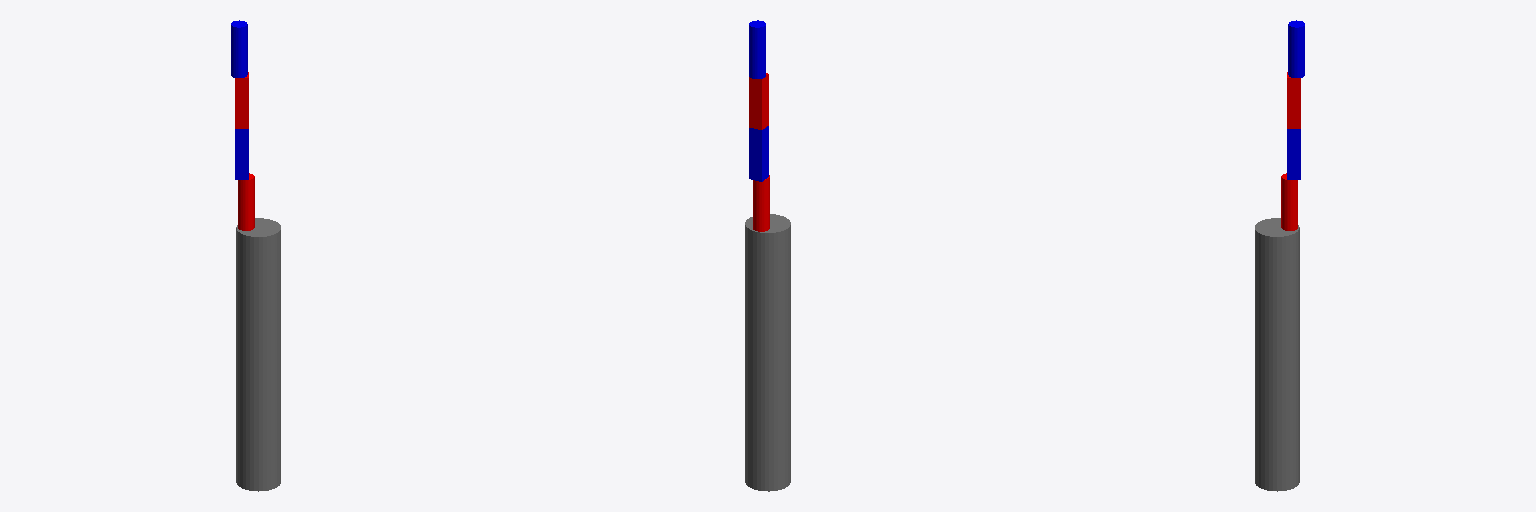
robot.urdf — generated_robot:
<?xml version="1.0"?>
<robot name="generated_robot">
  <mujoco >
    <compiler discardvisual="false"/>
  </mujoco>
  <link name="world"/>
  <joint name="world_to_body" type="fixed">
    <parent link="world"/>
    <child link="body"/>
    <origin xyz="0 0 1.0" rpy="0 0 0"/>
  </joint>
  <link name="body">
    <visual >
      <origin xyz="0 0 -0.5" rpy="0 0 0"/>
      <geometry >
        <cylinder radius="0.0800" length="1.0"/>
      </geometry>
      <material name="grey">
        <color rgba="0.5 0.5 0.5 1.0"/>
      </material>
    </visual>
    <inertial >
      <mass value="10.0"/>
      <inertia ixx="0.01" ixy="0" ixz="0" iyy="0.01" iyz="0" izz="0.01"/>
    </inertial>
  </link>
  <joint name="joint_0" type="revolute">
    <parent link="body"/>
    <child link="link_0"/>
    <origin xyz="0.001 0.03 0.0" rpy="0.0000 0.0000 0.0000"/>
    <axis xyz="1 0 0"/>
    <limit lower="-3.1416" upper="3.1416" effort="10" velocity="1"/>
  </joint>
  <link name="link_0">
    <visual >
      <origin xyz="0.0000 0.0150 0.1000" rpy="0.0000 0.0000 0.0000"/>
      <geometry >
        <cylinder radius="0.0300" length="0.2000"/>
      </geometry>
      <material name="mat_0">
        <color rgba="1.0 0.0 0.0 1.0"/>
      </material>
    </visual>
    <inertial >
      <mass value="1.0"/>
      <inertia ixx="0.01" ixy="0" ixz="0" iyy="0.01" iyz="0" izz="0.01"/>
    </inertial>
  </link>
  <joint name="joint_1" type="revolute">
    <parent link="link_0"/>
    <child link="link_1"/>
    <origin xyz="0.0 0.03 0.2" rpy="0.0000 0.0000 0.0000"/>
    <axis xyz="0 0 1"/>
    <limit lower="-3.1416" upper="3.1416" effort="10" velocity="1"/>
  </joint>
  <link name="link_1">
    <visual >
      <origin xyz="0.0000 0.0000 0.1000" rpy="0 0 0"/>
      <geometry >
        <box size="0.0500 0.0500 0.2000"/>
      </geometry>
      <material name="mat_1">
        <color rgba="0.0 0.0 1.0 1.0"/>
      </material>
    </visual>
    <inertial >
      <mass value="1.0"/>
      <inertia ixx="0.01" ixy="0" ixz="0" iyy="0.01" iyz="0" izz="0.01"/>
    </inertial>
  </link>
  <joint name="joint_2" type="revolute">
    <parent link="link_1"/>
    <child link="link_2"/>
    <origin xyz="0.0 0.0 0.2" rpy="0.0000 0.0000 0.0000"/>
    <axis xyz="0 1 0"/>
    <limit lower="-3.1416" upper="3.1416" effort="10" velocity="1"/>
  </joint>
  <link name="link_2">
    <visual >
      <origin xyz="0.0000 0.0000 0.1000" rpy="0 0 0"/>
      <geometry >
        <box size="0.0500 0.0500 0.2000"/>
      </geometry>
      <material name="mat_2">
        <color rgba="1.0 0.0 0.0 1.0"/>
      </material>
    </visual>
    <inertial >
      <mass value="1.0"/>
      <inertia ixx="0.01" ixy="0" ixz="0" iyy="0.01" iyz="0" izz="0.01"/>
    </inertial>
  </link>
  <joint name="joint_3" type="revolute">
    <parent link="link_2"/>
    <child link="link_3"/>
    <origin xyz="0.0 0.0 0.2" rpy="0.0000 0.0000 0.0000"/>
    <axis xyz="0 0 1"/>
    <limit lower="-3.1416" upper="3.1416" effort="10" velocity="1"/>
  </joint>
  <link name="link_3">
    <visual >
      <origin xyz="0.0000 0.0100 0.1000" rpy="0.0000 0.0000 0.0000"/>
      <geometry >
        <cylinder radius="0.0300" length="0.2000"/>
      </geometry>
      <material name="mat_3">
        <color rgba="0.0 0.0 1.0 1.0"/>
      </material>
    </visual>
    <inertial >
      <mass value="1.0"/>
      <inertia ixx="0.01" ixy="0" ixz="0" iyy="0.01" iyz="0" izz="0.01"/>
    </inertial>
  </link>
  <joint name="joint_4" type="revolute">
    <parent link="link_3"/>
    <child link="link_4"/>
    <origin xyz="0.0 0.02 0.2" rpy="0.0000 0.0000 0.0000"/>
    <axis xyz="0 1 0"/>
    <limit lower="-3.1416" upper="3.1416" effort="10" velocity="1"/>
  </joint>
  <link name="link_4">
    <inertial >
      <mass value="1.0"/>
      <inertia ixx="0.01" ixy="0" ixz="0" iyy="0.01" iyz="0" izz="0.01"/>
    </inertial>
  </link>
</robot>

--- Render facts (derived) ---
Views: 3 orthographic renders of the robot side by side, from view 1: azimuth 90°, elevation 25°; view 2: azimuth 150°, elevation 25°; view 3: azimuth 270°, elevation 25°.
Model generated_robot with 7 links and 6 joints (5 revolute, 1 fixed), rooted at world, posed every joint at zero.
Visible links, largest first — view 1: body, link_3, link_0, link_2, link_1; view 2: body, link_1, link_2, link_3, link_0; view 3: body, link_3, link_0, link_2, link_1.
Boxes of the visible links, <box> form: body: <box>236,218,280,491</box>; link_3: <box>231,20,247,77</box>; link_0: <box>238,173,254,230</box>; link_2: <box>235,72,248,128</box>; link_1: <box>235,129,248,179</box>; body: <box>745,214,790,491</box>; link_1: <box>749,126,768,181</box>; link_2: <box>749,73,768,129</box>; link_3: <box>749,20,765,78</box>; link_0: <box>753,175,769,231</box>; body: <box>1255,218,1299,491</box>; link_3: <box>1288,20,1304,77</box>; link_0: <box>1281,173,1297,230</box>; link_2: <box>1287,72,1300,128</box>; link_1: <box>1287,129,1300,179</box>.
Size in the robot's own frame: 0.16 by 0.18 by 1.8 metres.
Geometry: primitives only (box / cylinder / sphere), no mesh files.
